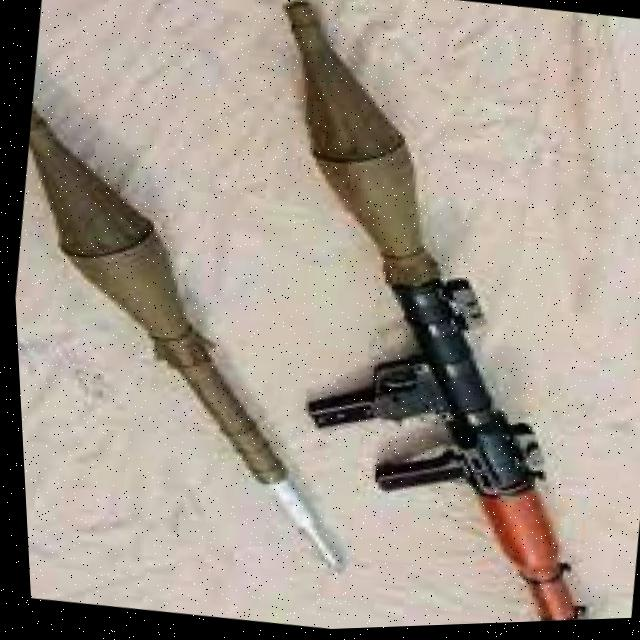rocket: (199, 0, 640, 634)
